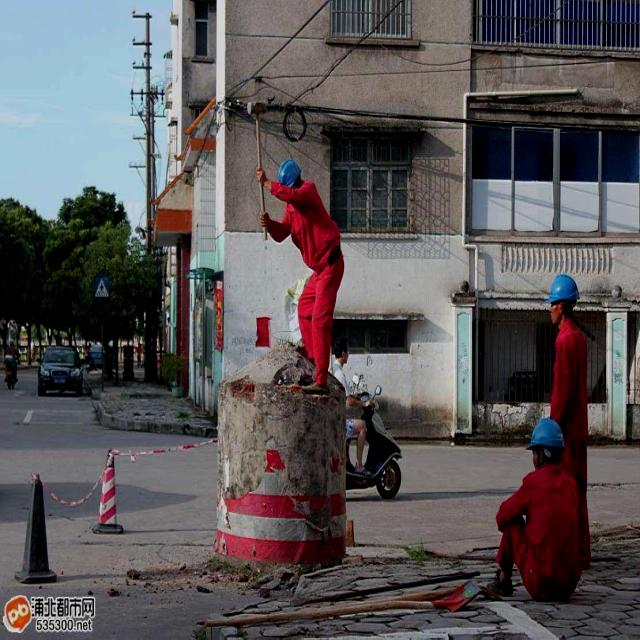face_nomask: (544, 304, 564, 326)
hand_noglove: (254, 167, 268, 186), (260, 207, 272, 229)
head_helmet: (531, 422, 564, 445), (549, 276, 578, 301), (280, 164, 302, 184)
person: (489, 420, 582, 602), (274, 161, 346, 389), (545, 270, 594, 414)
shoes: (486, 568, 514, 601), (298, 374, 328, 398)
